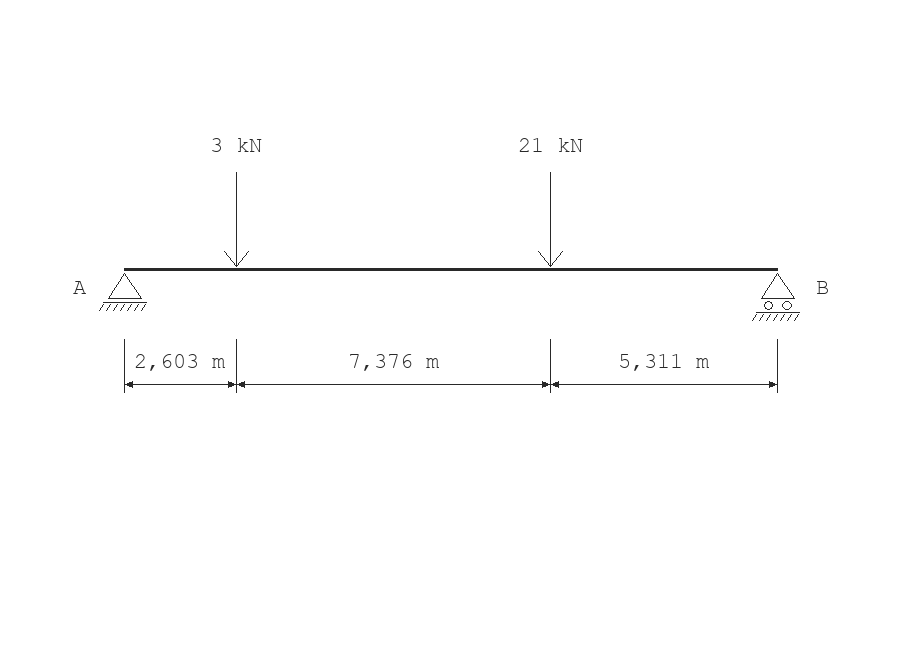pin_support: (99, 273, 147, 311)
point_load: (224, 172, 249, 267), (538, 172, 563, 267)
roller_support: (752, 273, 800, 321)
